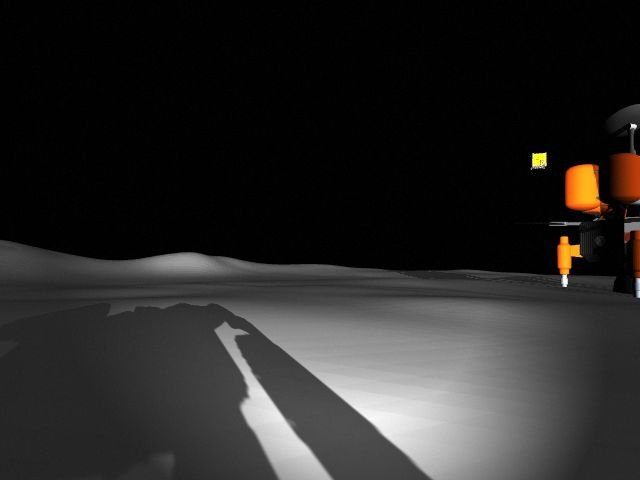cubesat: (525, 149, 550, 172)
